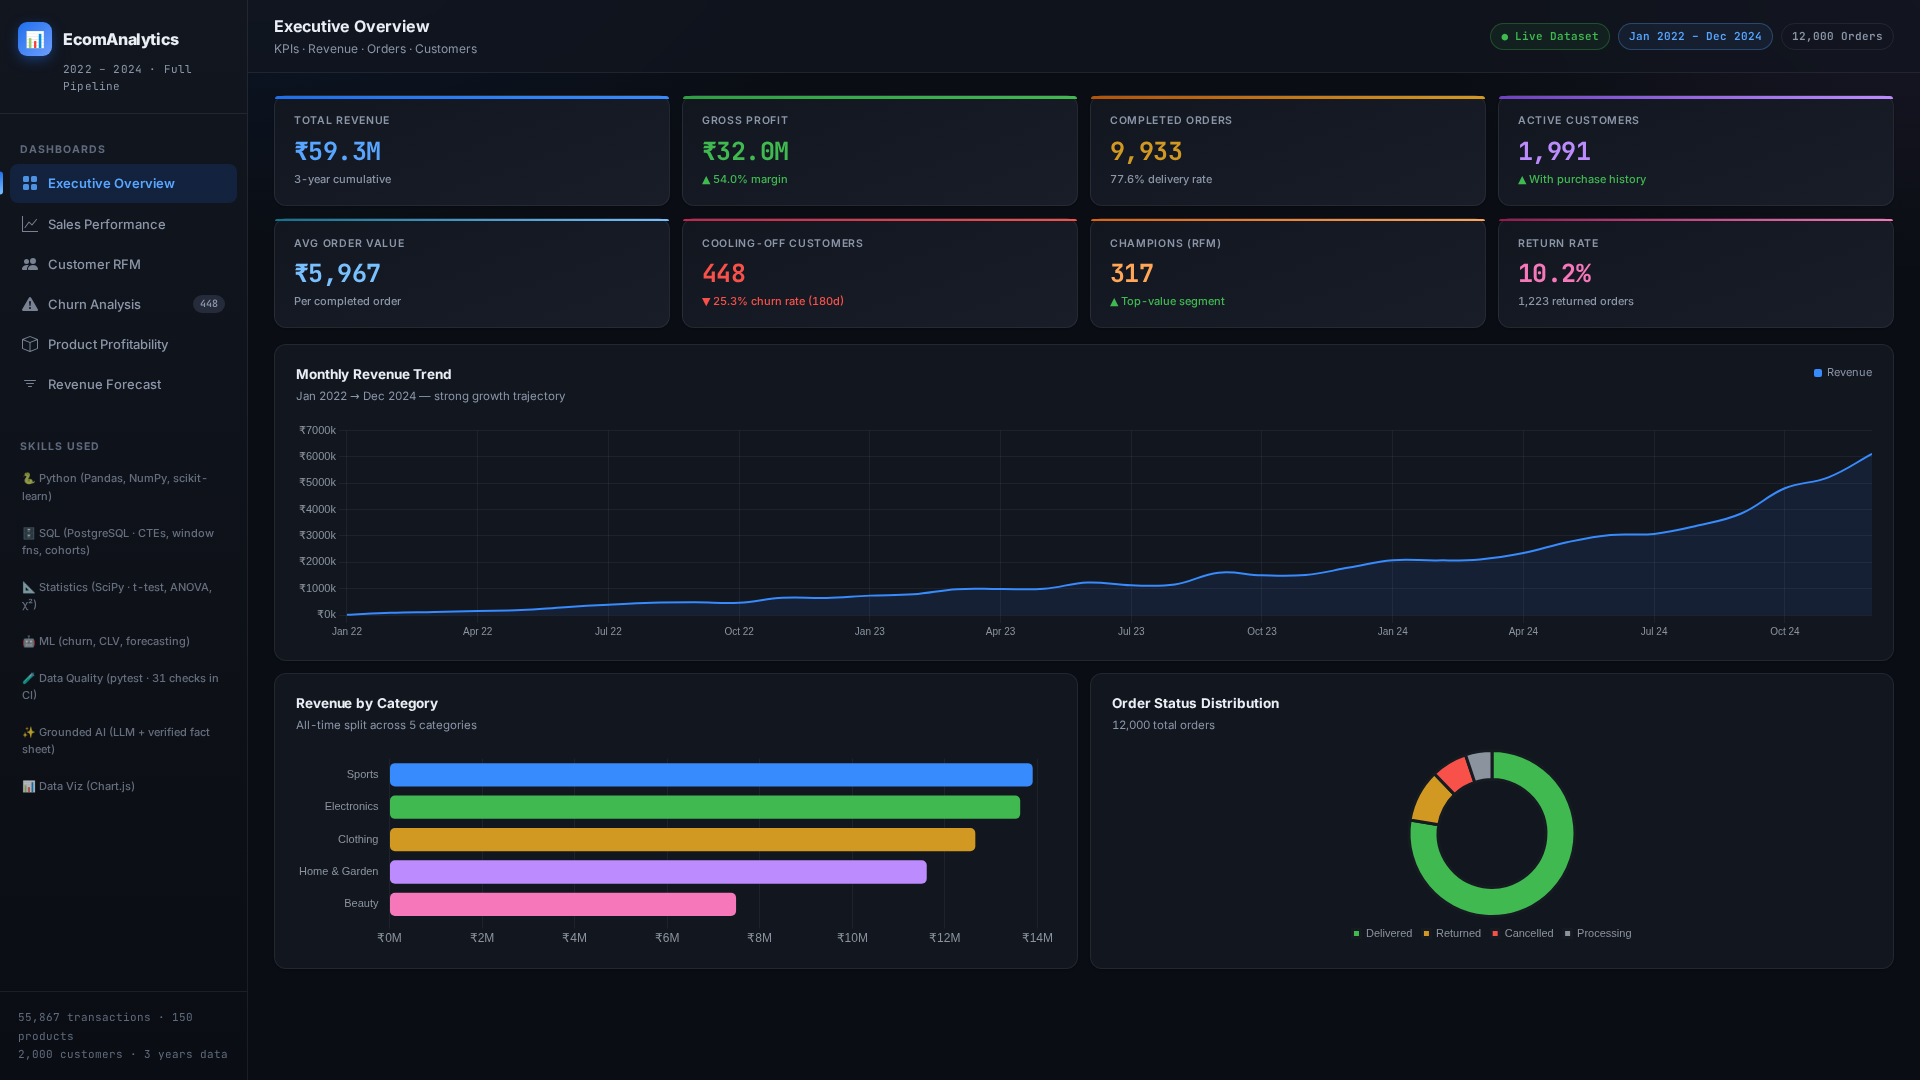

Layout of this report page (visuals, bound fields, positions):
{"tool":"powerbi","page":{"name":"Executive Overview","canvas":[1280,720],"ordinal":0},"visuals":[{"type":"card","title":"Total revenue","fields":{"Values":["Fact_Orders.Total Revenue"]},"box":[16,16,196,96],"z":0},{"type":"card","title":"Gross profit","fields":{"Values":["Fact_Orders.Gross Profit"]},"box":[224,16,196,96],"z":0},{"type":"card","title":"Gross margin","fields":{"Values":["Fact_Orders.Gross Margin %"]},"box":[432,16,196,96],"z":0},{"type":"card","title":"Delivered orders","fields":{"Values":["Fact_Orders.Delivered Orders"]},"box":[640,16,196,96],"z":0},{"type":"card","title":"Average order value","fields":{"Values":["Fact_Orders.Average Order Value"]},"box":[848,16,196,96],"z":0},{"type":"card","title":"Active customers","fields":{"Values":["Fact_Orders.Active Customers"]},"box":[1056,16,196,96],"z":0},{"type":"slicer","title":"Year","fields":{"Values":["Dim_Calendar.Year"]},"box":[16,124,196,88],"z":0},{"type":"areaChart","title":"Revenue by month","fields":{"Category":["Dim_Calendar.MonthName"],"Y":["Fact_Orders.Total Revenue"]},"box":[224,124,592,270],"z":0},{"type":"clusteredColumnChart","title":"Revenue by category","fields":{"Category":["Dim_Products.category"],"Y":["Fact_Orders.Total Revenue"]},"box":[828,124,436,270],"z":0},{"type":"tableEx","title":"Revenue by customer segment","fields":{"Values":["Dim_Customers.segment","Fact_Orders.Total Revenue","Fact_Orders.Active Customers"]},"box":[16,406,420,298],"z":0},{"type":"barChart","title":"Revenue by payment method","fields":{"Category":["Fact_Orders.payment_method"],"Y":["Fact_Orders.Total Revenue"]},"box":[448,406,380,298],"z":0},{"type":"clusteredColumnChart","title":"Delivered orders by region","fields":{"Category":["Dim_Customers.region"],"Y":["Fact_Orders.Delivered Orders"]},"box":[840,406,424,298],"z":0}]}

Visuals, with their boxes on the page's 1280x720 design canvas (x1, y1, x2, y2). These are canvas units, not pixel positions in the 1920x1080 screenshot, which may show the page scaled, cropped or inside an application window:
"Total revenue" card: 16,16,212,112
"Gross profit" card: 224,16,420,112
"Gross margin" card: 432,16,628,112
"Delivered orders" card: 640,16,836,112
"Average order value" card: 848,16,1044,112
"Active customers" card: 1056,16,1252,112
"Year" slicer: 16,124,212,212
"Revenue by month" areaChart: 224,124,816,394
"Revenue by category" clusteredColumnChart: 828,124,1264,394
"Revenue by customer segment" tableEx: 16,406,436,704
"Revenue by payment method" barChart: 448,406,828,704
"Delivered orders by region" clusteredColumnChart: 840,406,1264,704
